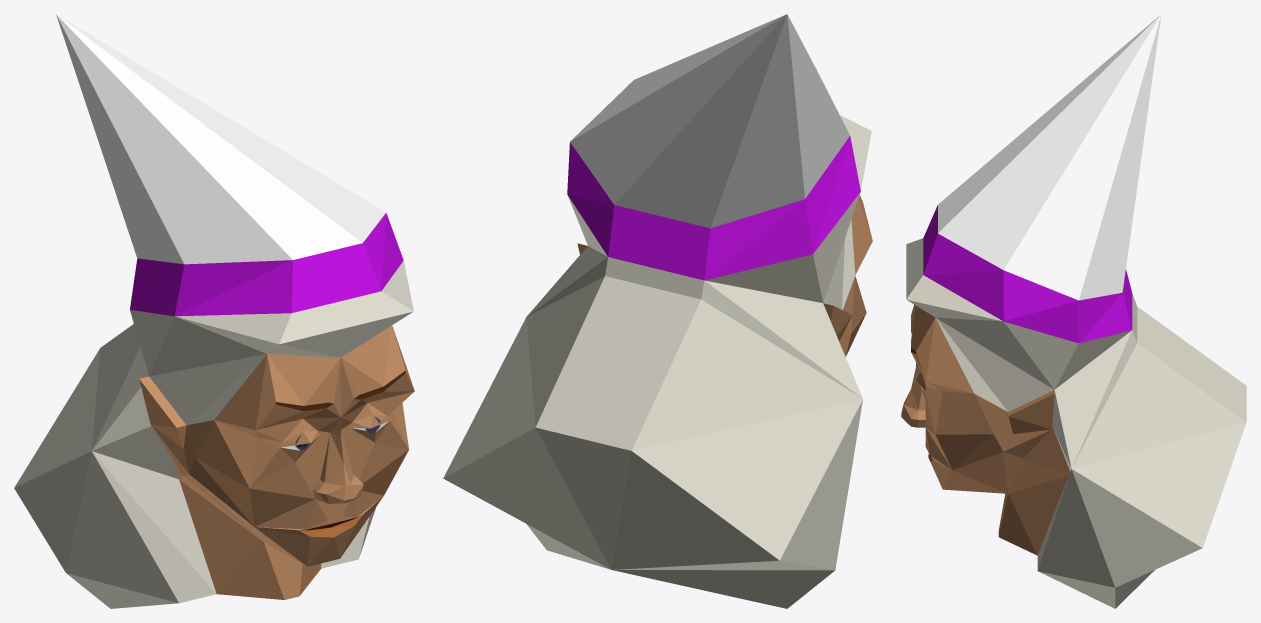
File: model_13_npc_head.obj
The picture shows the model from 3 angles, left to right: view 1: azimuth 30°, elevation 25°; view 2: azimuth 150°, elevation 25°; view 3: azimuth 270°, elevation 25°; orthographic projection. The views are drawn at different scales.
Parts seen in each view (by area): view 1: 13; view 2: 13; view 3: 13.
Part boxes in pixels (x1,y1,x2,y2): 13: [14, 14, 414, 608]; 13: [443, 14, 872, 608]; 13: [901, 14, 1246, 608].
Size of the model in its own units: 126 by 223 by 142.
